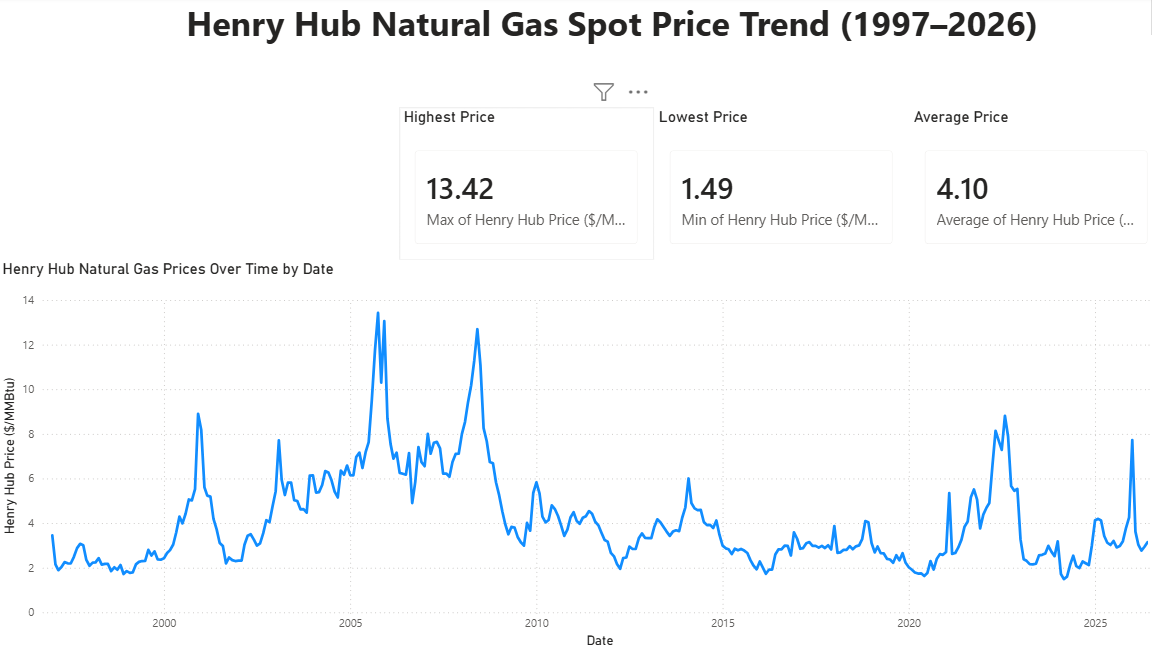

Layout of this report page (visuals, bound fields, positions):
{"tool":"powerbi","page":{"name":"Page 1","canvas":[1280,720],"ordinal":0},"visuals":[{"type":"cardVisual","title":"Highest Price","fields":{"Data":["Max(henry_hub_prices1.Henry Hub Price ($/MMBtu))"]},"box":[440.5,122.1,279.9,167.4],"z":0},{"type":"cardVisual","title":"Lowest Price","fields":{"Data":["Min(henry_hub_prices1.Henry Hub Price ($/MMBtu))"]},"box":[720.4,122.1,279.9,167.4],"z":1000},{"type":"cardVisual","title":"Average Price","fields":{"Data":["Avg(henry_hub_prices1.Henry Hub Price ($/MMBtu))"]},"box":[1000.3,122.1,279.9,167.4],"z":2000},{"type":"lineChart","fields":{"Y":["Avg(henry_hub_prices1.Henry Hub Price ($/MMBtu))"],"Category":["henry_hub_prices1.Date"]},"box":[0,289.5,1280.3,430.9],"z":3000},{"type":"textbox","box":[76.8,0,1203.4,60.4],"z":4000}]}

Visuals, with their boxes in screenshot pixels (x1, y1, x2, y2), scaled from the page's 1280x720 canvas onto the 1152x647 screenshot:
"Highest Price" cardVisual: <region>396, 110, 648, 260</region>
"Lowest Price" cardVisual: <region>648, 110, 900, 260</region>
"Average Price" cardVisual: <region>900, 110, 1151, 260</region>
lineChart - Avg(henry_hub_prices1.Henry Hub Price ($/MMBtu)) x henry_hub_prices1.Date: <region>0, 260, 1151, 646</region>
textbox: <region>69, 0, 1151, 54</region>
